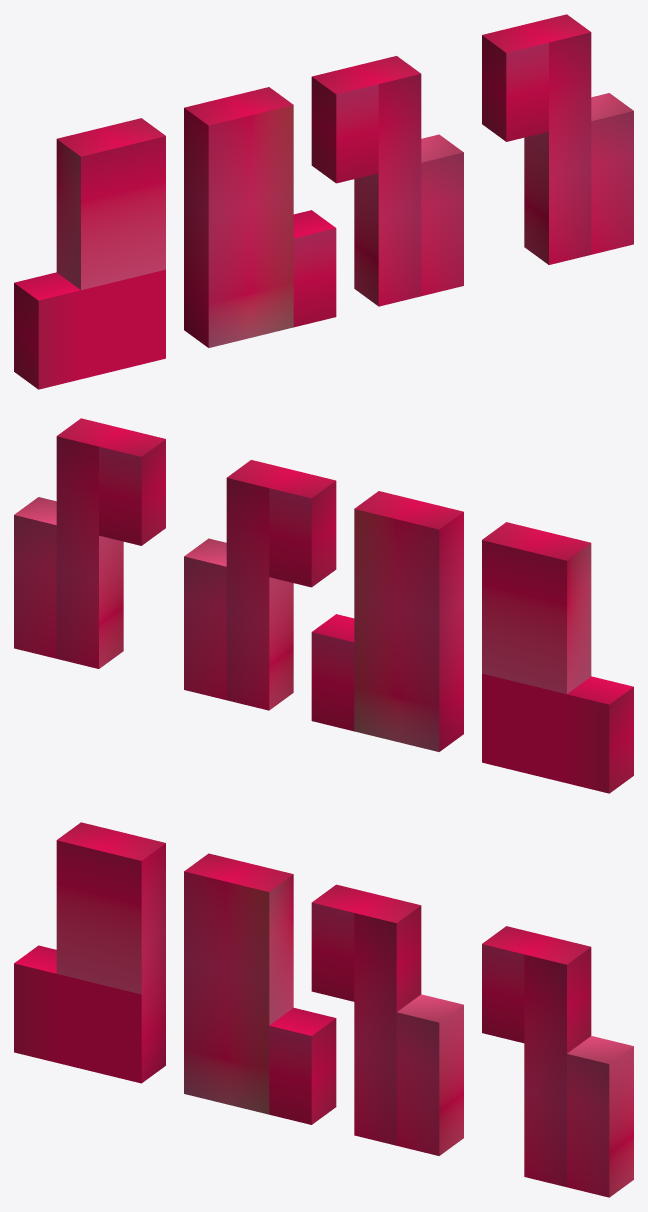
File: BillboardModule_WeirdSymbol_D_00.fbx
The picture shows the model from 3 angles, top to bottom: view 1: azimuth 30°, elevation 25°; view 2: azimuth 150°, elevation 25°; view 3: azimuth 330°, elevation 25°; orthographic projection.
Parts seen in each view (by area): view 1: BillboardModule_WeirdSymbol_D_00; view 2: BillboardModule_WeirdSymbol_D_00; view 3: BillboardModule_WeirdSymbol_D_00.
Part boxes in pixels (x1,y1,x2,y2): BillboardModule_WeirdSymbol_D_00: [14, 14, 633, 389]; BillboardModule_WeirdSymbol_D_00: [14, 418, 633, 793]; BillboardModule_WeirdSymbol_D_00: [14, 822, 633, 1197].
Size of the model in its own units: 70 by 25 by 5.
